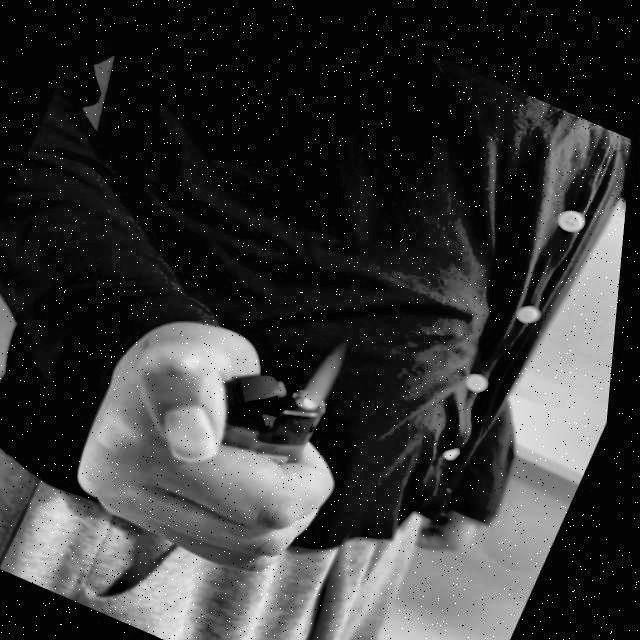Fire: (299, 318, 365, 411)
